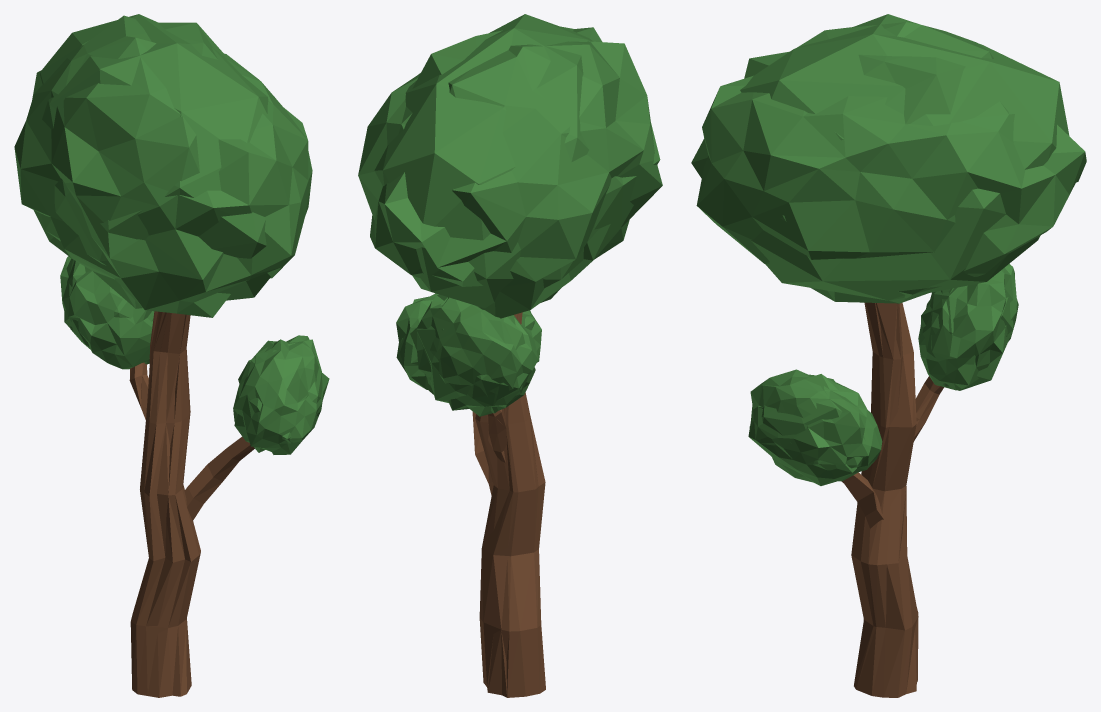
File: TallTree2.fbx
The picture shows the model from 3 angles, left to right: view 1: azimuth 30°, elevation 25°; view 2: azimuth 150°, elevation 25°; view 3: azimuth 270°, elevation 25°; orthographic projection.
Parts seen in each view (by area): view 1: Newly_merged_leaves, Newly_merged_leaves_LOD, Newly_merged_branches, Newly_merged_branches_LOD; view 2: Newly_merged_leaves, Newly_merged_leaves_LOD, Newly_merged_branches, Newly_merged_branches_LOD; view 3: Newly_merged_leaves, Newly_merged_leaves_LOD, Newly_merged_branches, Newly_merged_branches_LOD.
Boxes of the visible parts, <box> form: Newly_merged_leaves: <box>14,15,329,454</box>; Newly_merged_leaves_LOD: <box>40,14,322,443</box>; Newly_merged_branches: <box>129,311,254,697</box>; Newly_merged_branches_LOD: <box>141,312,185,694</box>; Newly_merged_leaves: <box>358,26,662,416</box>; Newly_merged_leaves_LOD: <box>374,14,660,413</box>; Newly_merged_branches: <box>472,312,545,697</box>; Newly_merged_branches_LOD: <box>475,414,517,697</box>; Newly_merged_leaves: <box>696,22,1086,485</box>; Newly_merged_leaves_LOD: <box>691,14,1069,481</box>; Newly_merged_branches: <box>841,302,943,697</box>; Newly_merged_branches_LOD: <box>876,302,918,691</box>.
Bounding box in the file's own units: 952 × 2417 × 1323.
